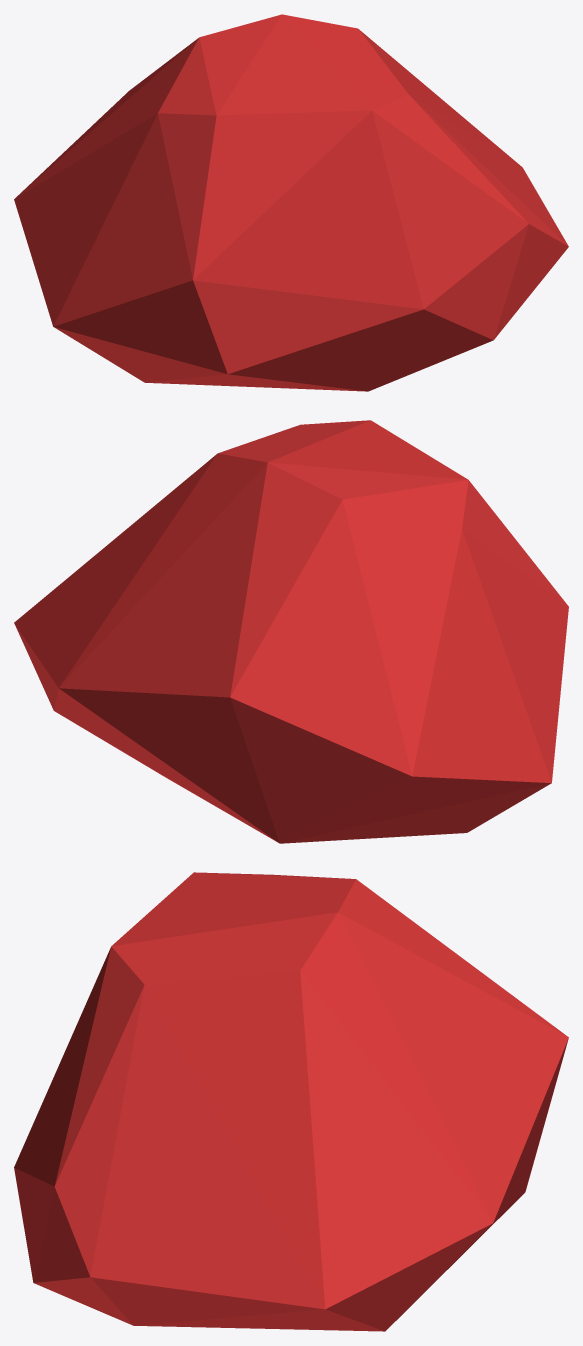
Rendered from Mosh 09.FBX.
3 renders of one model, top to bottom at view 1: azimuth 30°, elevation 25°; view 2: azimuth 150°, elevation 25°; view 3: azimuth 270°, elevation 25°, orthographic. The views are drawn at different scales.
Visible parts, largest first — view 1: cube; view 2: cube; view 3: cube.
Boxes of the visible parts, x1,y1,x2,y2 form: cube: [14, 14, 568, 391]; cube: [14, 420, 568, 843]; cube: [14, 872, 568, 1331].
Bounding box in the file's own units: 81.96 × 51.27 × 66.61.
